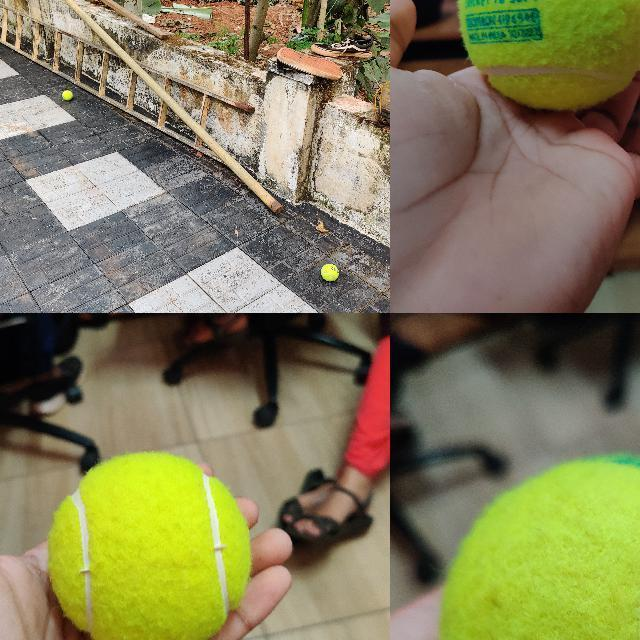tennis-ball: (49, 453, 250, 639), (442, 456, 639, 639), (458, 0, 639, 110), (320, 263, 338, 281), (62, 90, 73, 100)
